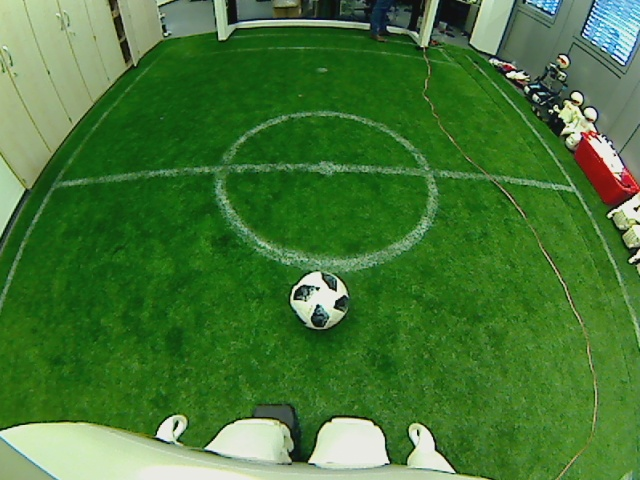ball: (288, 269, 354, 332)
